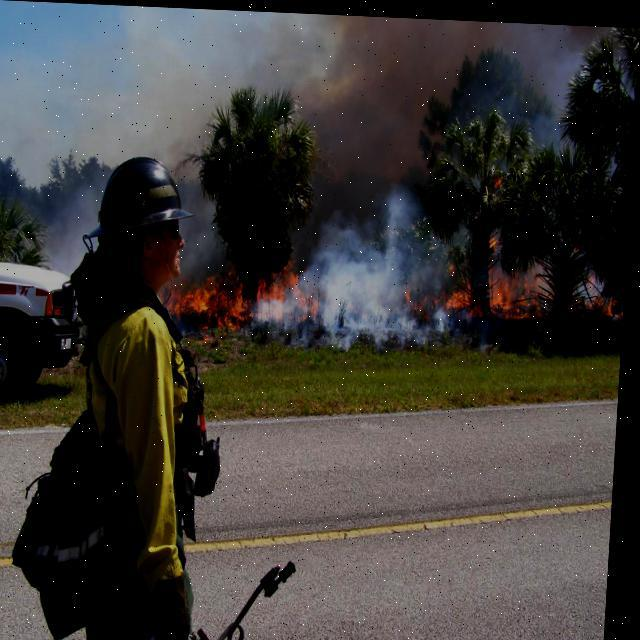Fire: (174, 244, 312, 330), (488, 244, 552, 317), (442, 262, 479, 312)
